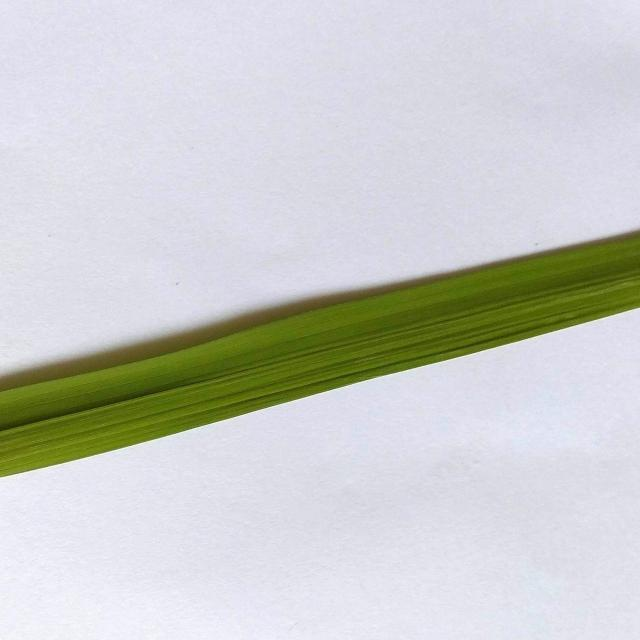healthy: (0, 217, 640, 503)
